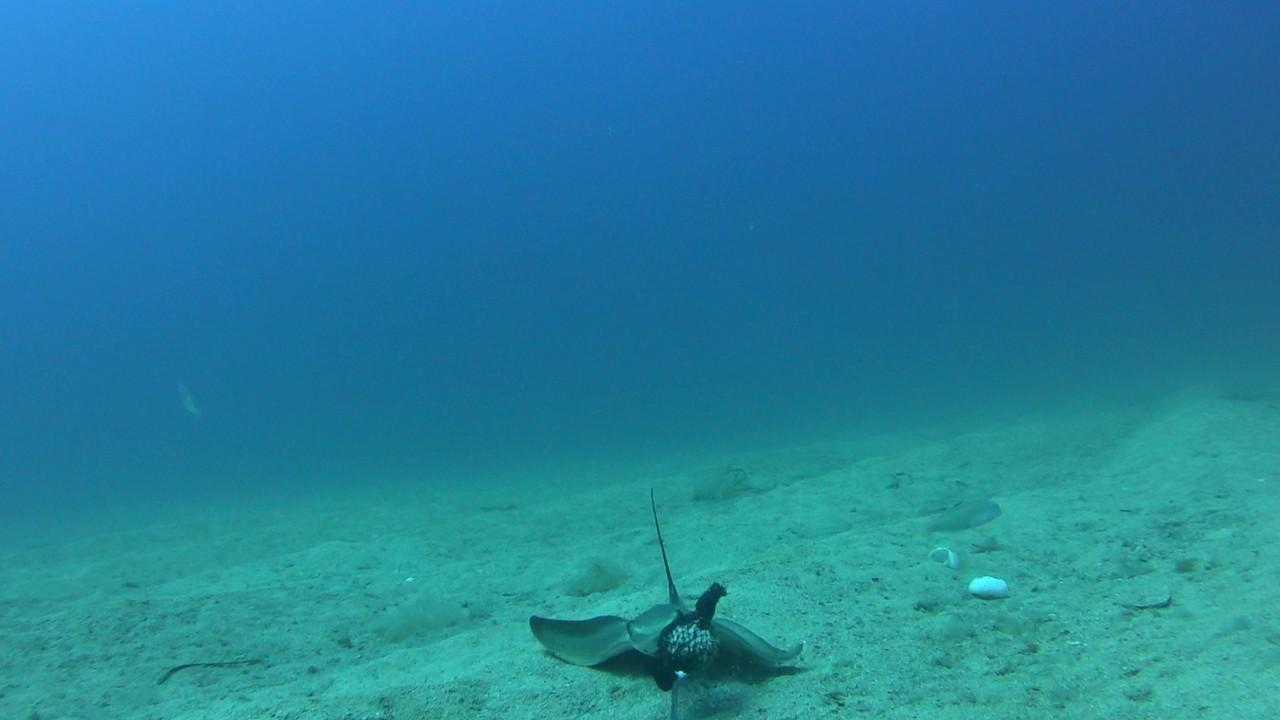balistes: (175, 383, 204, 427)
myliobatis: (529, 483, 807, 672)
raor: (914, 499, 1002, 532)
